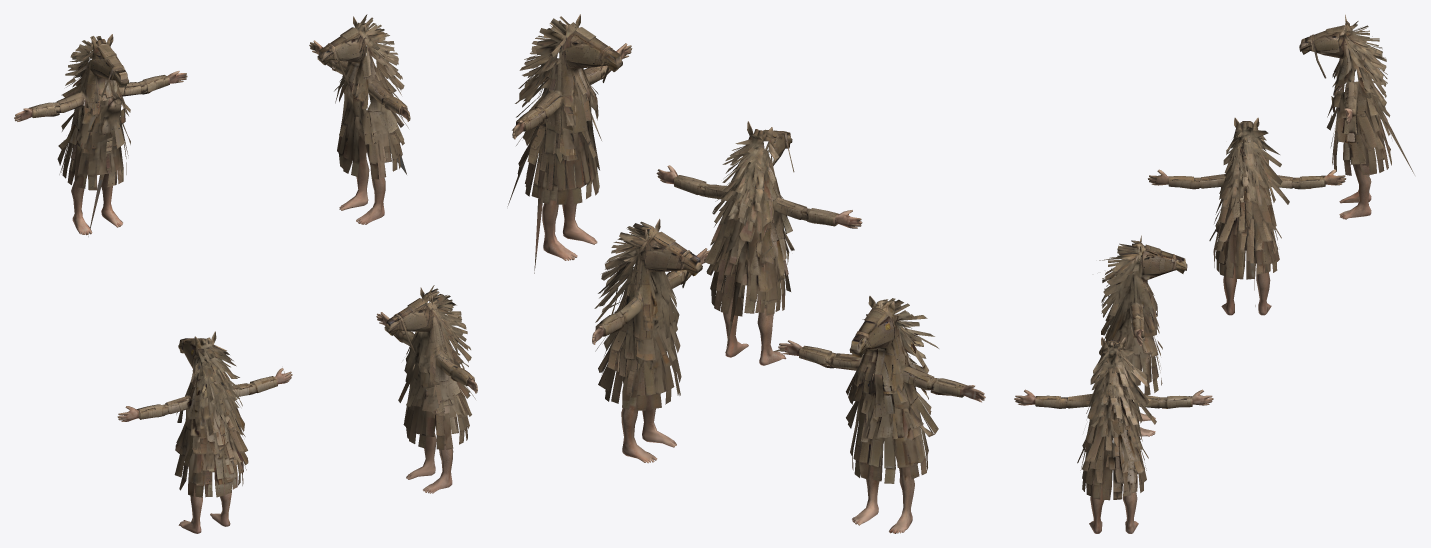
Rendered from predone-cartone-tavola.glb.
3 views of the same model, side by side, from view 1: azimuth 30°, elevation 25°; view 2: azimuth 150°, elevation 25°; view 3: azimuth 270°, elevation 25° (orthographic). The views are drawn at different scales.
Visible parts, largest first — view 1: bd92124d_765d_4eea_a059_125236b7046d; view 2: bd92124d_765d_4eea_a059_125236b7046d; view 3: bd92124d_765d_4eea_a059_125236b7046d.
Boxes of the visible parts, bbox=[...] form: bd92124d_765d_4eea_a059_125236b7046d: bbox=[14, 14, 477, 533]; bd92124d_765d_4eea_a059_125236b7046d: bbox=[507, 14, 985, 533]; bd92124d_765d_4eea_a059_125236b7046d: bbox=[1014, 14, 1414, 533].
Size of the model in its own units: 0.8647 by 0.9858 by 0.8774.
Materials: 1 (1 with a texture image).
